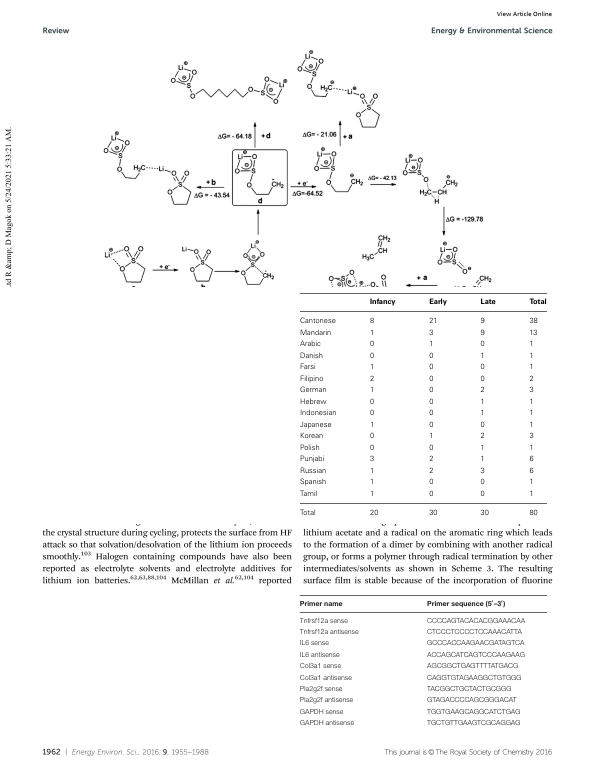borderless: (298, 292, 548, 518), (298, 593, 548, 728)
cell: (426, 617, 526, 626), (426, 651, 526, 660), (426, 628, 522, 637), (426, 719, 521, 728), (426, 662, 519, 671), (426, 640, 525, 648), (426, 685, 512, 694), (426, 674, 522, 682), (426, 708, 521, 716), (426, 697, 517, 705), (426, 600, 506, 608), (299, 628, 359, 637), (299, 719, 355, 728), (299, 617, 348, 626), (299, 697, 354, 705), (299, 674, 352, 682), (299, 685, 343, 694), (299, 662, 342, 671), (299, 651, 340, 660), (299, 708, 344, 716), (299, 600, 343, 608), (299, 409, 337, 418), (299, 317, 336, 326), (299, 329, 332, 338), (299, 421, 332, 430), (368, 298, 396, 307), (299, 386, 327, 395), (299, 398, 327, 407), (299, 467, 327, 476), (299, 478, 327, 487), (299, 640, 329, 648), (299, 455, 325, 464), (299, 375, 324, 384), (299, 432, 324, 441), (299, 352, 323, 361), (299, 340, 321, 349), (299, 444, 320, 453), (428, 298, 447, 307), (528, 298, 547, 307), (299, 490, 318, 499), (479, 298, 496, 307), (299, 363, 316, 372), (299, 509, 316, 518), (368, 509, 379, 518), (428, 317, 438, 326), (528, 317, 538, 326), (528, 329, 538, 338), (428, 509, 438, 518), (479, 509, 489, 518), (528, 509, 538, 518), (368, 317, 375, 326), (368, 329, 375, 338), (368, 340, 375, 349), (368, 352, 375, 361), (368, 363, 375, 372), (368, 375, 375, 384), (368, 386, 375, 395), (368, 398, 375, 407), (368, 409, 375, 418), (368, 421, 375, 430), (368, 432, 375, 441), (368, 444, 375, 453), (368, 455, 375, 464), (368, 467, 375, 476), (368, 478, 375, 487), (368, 490, 375, 499), (479, 317, 485, 326), (428, 329, 434, 338), (479, 329, 485, 338), (428, 340, 434, 349), (479, 340, 485, 349), (528, 340, 534, 349), (428, 352, 434, 361), (479, 352, 485, 361), (528, 352, 534, 361), (428, 363, 434, 372), (479, 363, 485, 372), (528, 363, 534, 372), (428, 375, 434, 384), (479, 375, 485, 384), (528, 375, 534, 384), (428, 386, 434, 395), (479, 386, 485, 395), (528, 386, 534, 395), (428, 398, 434, 407), (479, 398, 485, 407), (528, 398, 534, 407), (428, 409, 434, 418), (479, 409, 485, 418), (528, 409, 534, 418), (428, 421, 434, 430), (479, 421, 485, 430), (528, 421, 534, 430), (428, 432, 434, 441), (479, 432, 485, 441), (528, 432, 534, 441), (428, 444, 434, 453), (479, 444, 485, 453), (528, 444, 534, 453), (428, 455, 434, 464), (479, 455, 485, 464), (528, 455, 534, 464), (428, 467, 434, 476), (479, 467, 485, 476), (528, 467, 534, 476), (428, 478, 434, 487), (479, 478, 485, 487), (528, 478, 534, 487), (428, 490, 434, 499), (479, 490, 485, 499), (528, 490, 534, 499)
